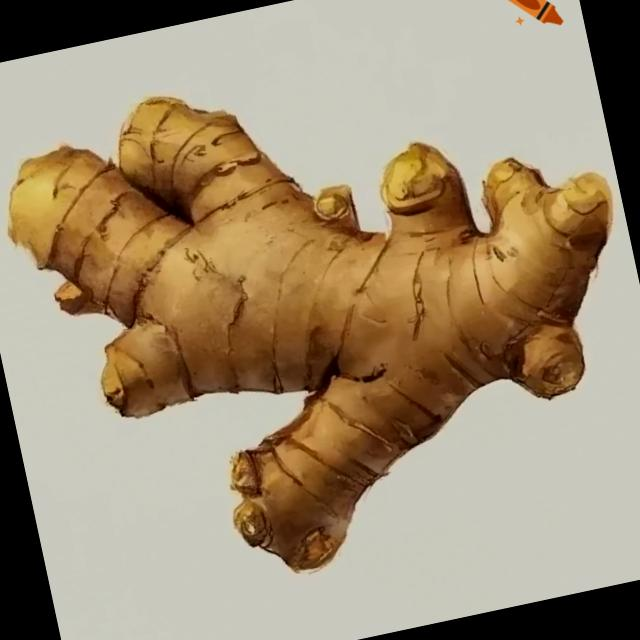ginger-root: (0, 20, 640, 640)
